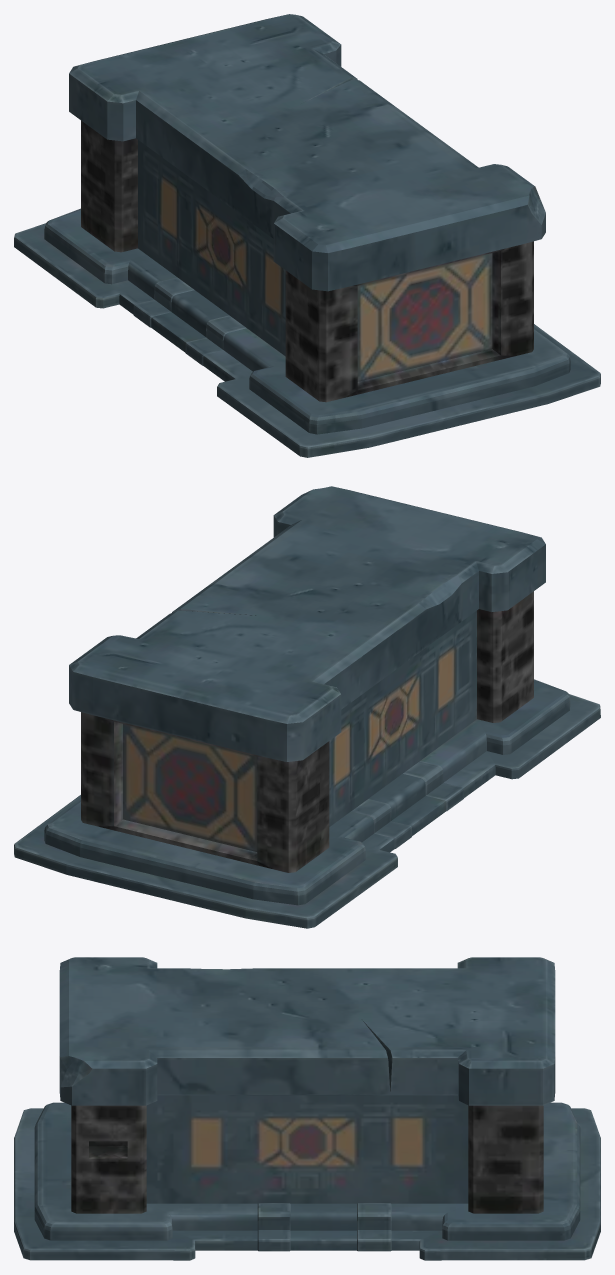
Rendered from bank.glb.
3 renders of one model, top to bottom at view 1: azimuth 30°, elevation 25°; view 2: azimuth 150°, elevation 25°; view 3: azimuth 270°, elevation 25°, orthographic. The views are drawn at different scales.
Visible parts, largest first — view 1: defaultMaterial; view 2: defaultMaterial; view 3: defaultMaterial.
Boxes of the visible parts, x1=… form: defaultMaterial: x1=14, y1=14, x2=600, y2=457; defaultMaterial: x1=14, y1=486, x2=600, y2=928; defaultMaterial: x1=14, y1=957, x2=600, y2=1260.
Bounding box in the file's own units: 1.27 × 0.7446 × 2.2.
1 material, 1 textured.
